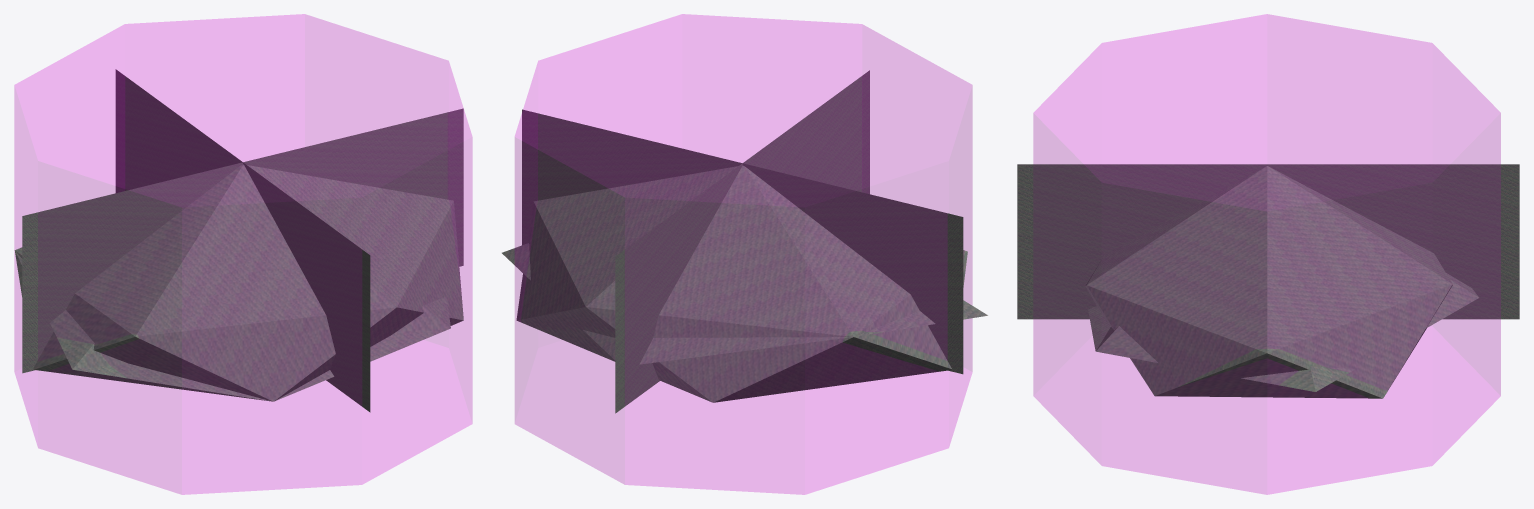
File: rock_large_gray_a.dae
The picture shows the model from 3 angles, left to right: view 1: azimuth 30°, elevation 25°; view 2: azimuth 150°, elevation 25°; view 3: azimuth 270°, elevation 25°; orthographic projection.
Parts seen in each view (by area): view 1: Colmesh_rock-1, rock_large_gray_a_a800, rock_large_gray_a_a50, rock_large_gray_a_a200; view 2: Colmesh_rock-1, rock_large_gray_a_a800, rock_large_gray_a_a50, rock_large_gray_a_a200; view 3: Colmesh_rock-1, rock_large_gray_a_a800, rock_large_gray_a_a50, rock_large_gray_a_a200.
Boxes of the visible parts, box(x1,y1,x2,y2) form: Colmesh_rock-1: box(14, 14, 472, 494); rock_large_gray_a_a800: box(14, 164, 463, 401); rock_large_gray_a_a50: box(22, 69, 463, 412); rock_large_gray_a_a200: box(15, 251, 450, 401); Colmesh_rock-1: box(515, 14, 972, 494); rock_large_gray_a_a800: box(516, 165, 967, 402); rock_large_gray_a_a50: box(522, 70, 963, 413); rock_large_gray_a_a200: box(502, 243, 987, 364); Colmesh_rock-1: box(1033, 14, 1500, 494); rock_large_gray_a_a800: box(1085, 166, 1452, 398); rock_large_gray_a_a50: box(1017, 164, 1519, 319); rock_large_gray_a_a200: box(1088, 273, 1478, 391).
Size of the model in its own units: 2.9 by 2.9 by 1.8.
2 materials, 1 textured.
